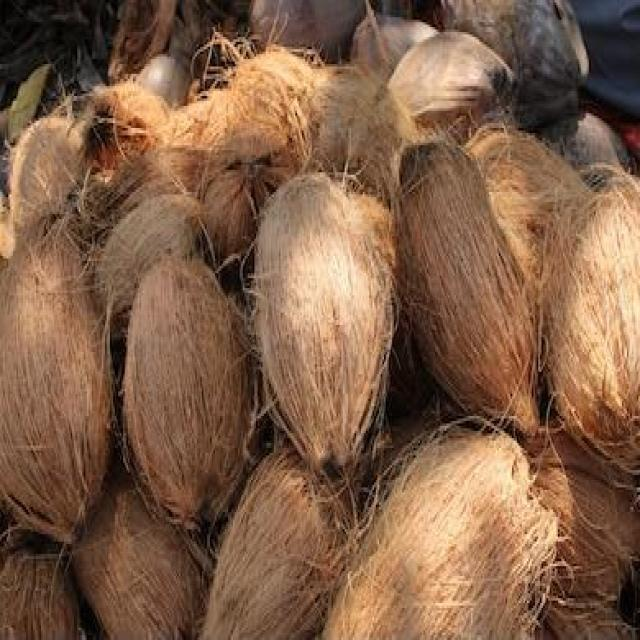coconut: (252, 166, 388, 468), (337, 437, 528, 640), (0, 231, 110, 546), (118, 252, 246, 519), (541, 167, 640, 472), (386, 25, 516, 147)
